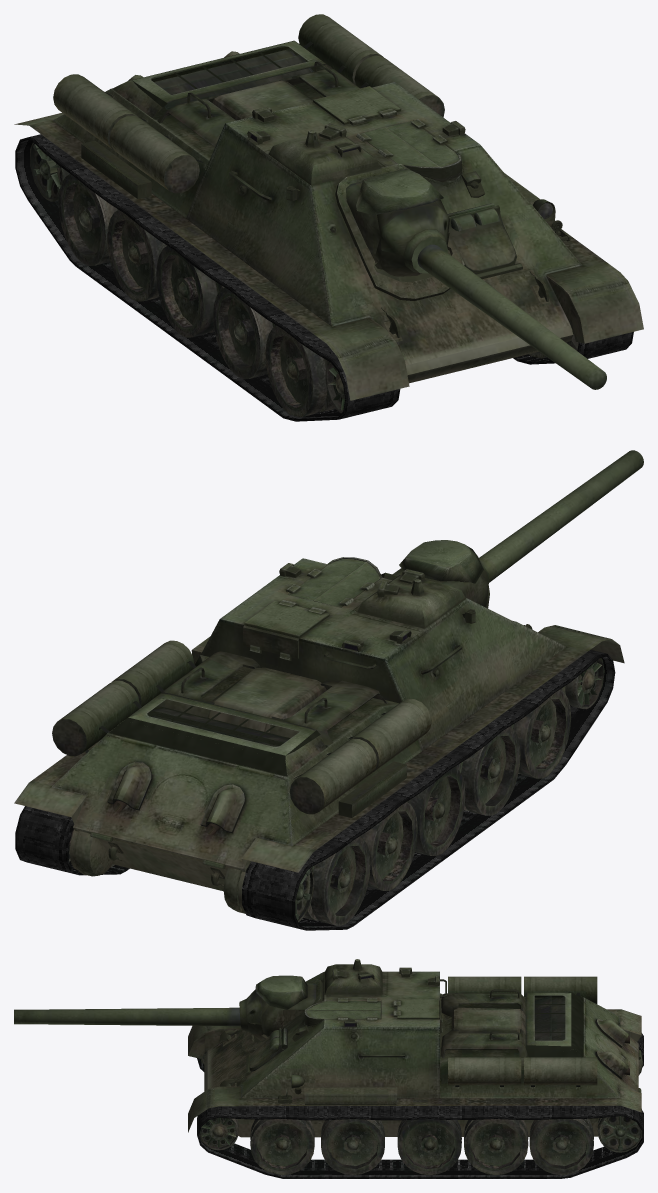
3 renders of one model, top to bottom at view 1: azimuth 30°, elevation 25°; view 2: azimuth 150°, elevation 25°; view 3: azimuth 270°, elevation 25°, orthographic. The views are drawn at different scales.
Visible parts, largest first — view 1: SU-85; view 2: SU-85; view 3: SU-85.
Part boxes in pixels (left/top/right/bottom): SU-85: left=14, top=14, right=643, bottom=421; SU-85: left=14, top=450, right=643, bottom=930; SU-85: left=14, top=959, right=643, bottom=1178.
Size of the model in its own units: 1.58 by 1.16 by 4.35.
3 materials, 3 textured.
